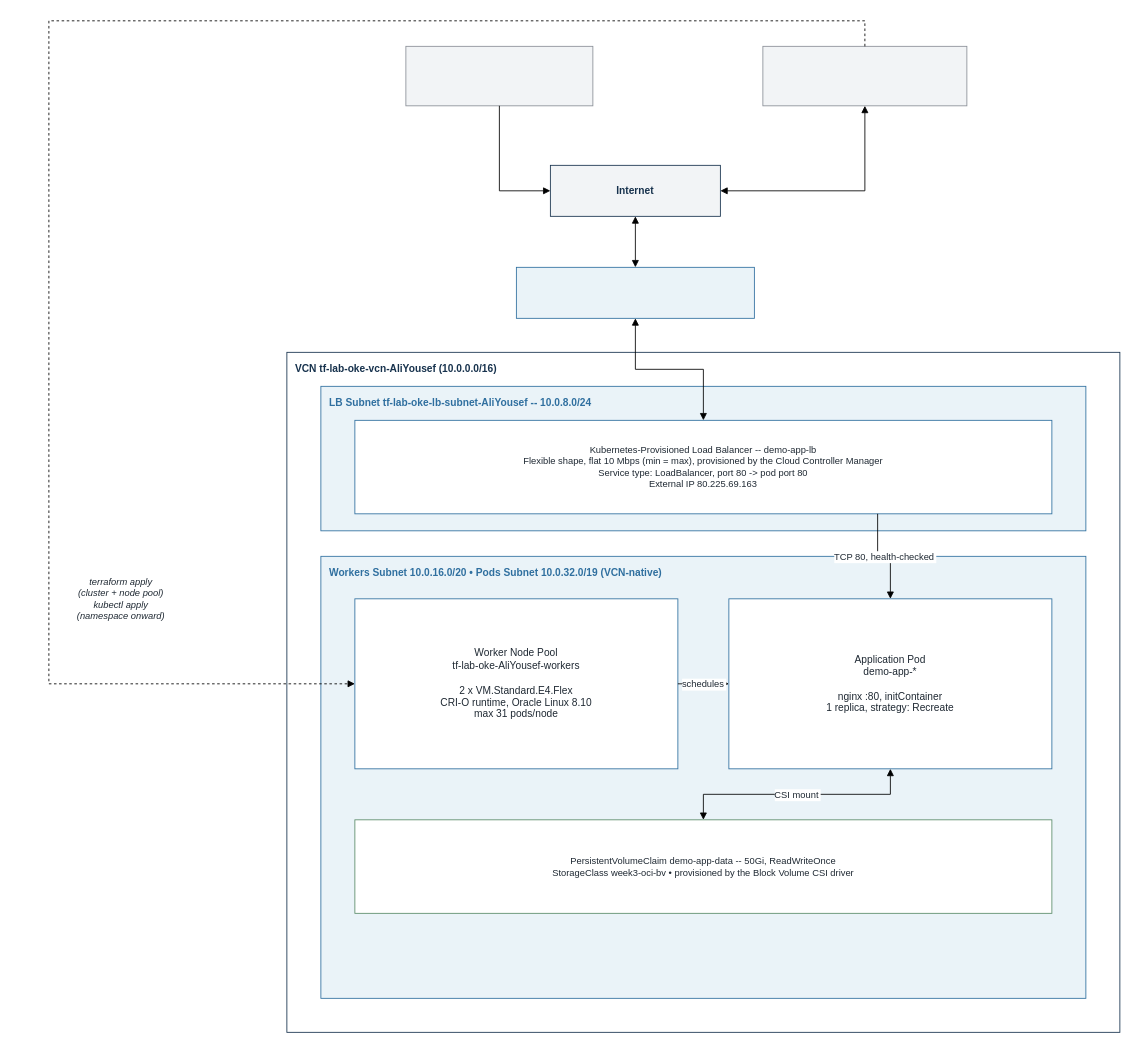
Some shapes in this 1135 by 1047 pixel diagram are drawn without their labels. The centre of each missing label's shape, as x and y in pixels:
"Ali (operator) kubectl / terraform" goes at (x=864, y=75).
"Client browser HTTP GET" goes at (x=499, y=75).
"Internet Gateway tf-lab-oke-igw-AliYousef" goes at (x=635, y=292).
